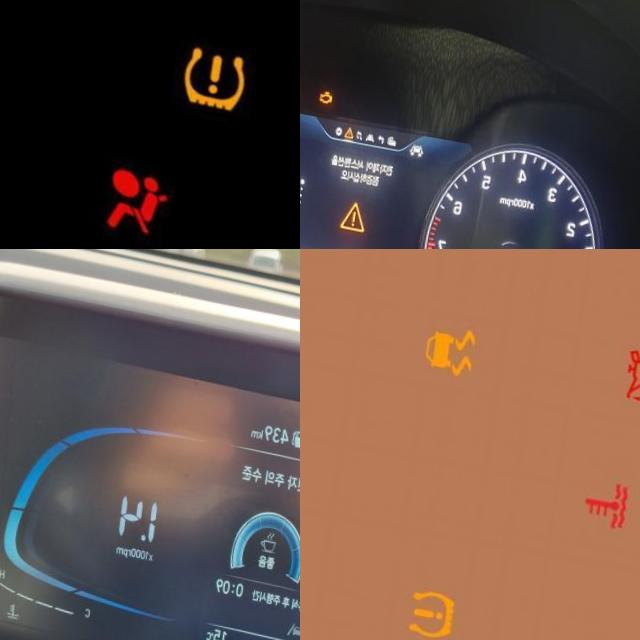Central Warning lamp: (349, 186, 378, 222), (300, 72, 303, 89)
